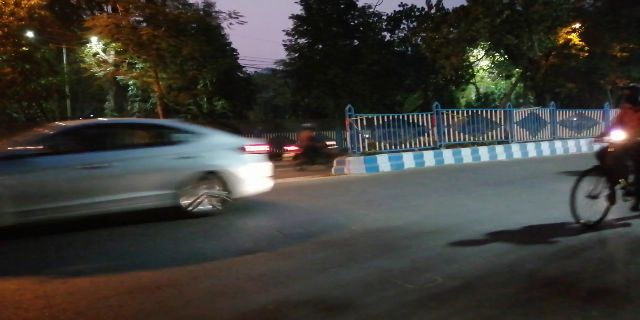Car: (21, 116, 275, 214)
Cycle: (571, 98, 632, 233)
